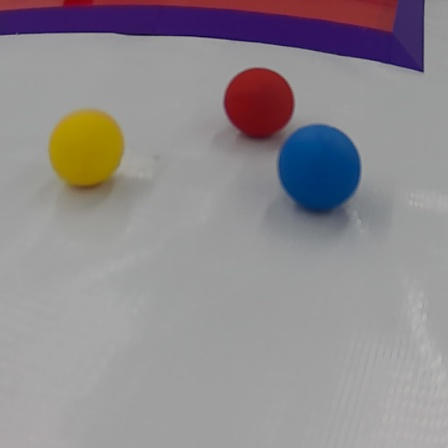blue: (274, 120, 364, 219)
red: (221, 63, 297, 138)
red_aim: (2, 0, 443, 63)
yellow: (41, 105, 129, 191)
